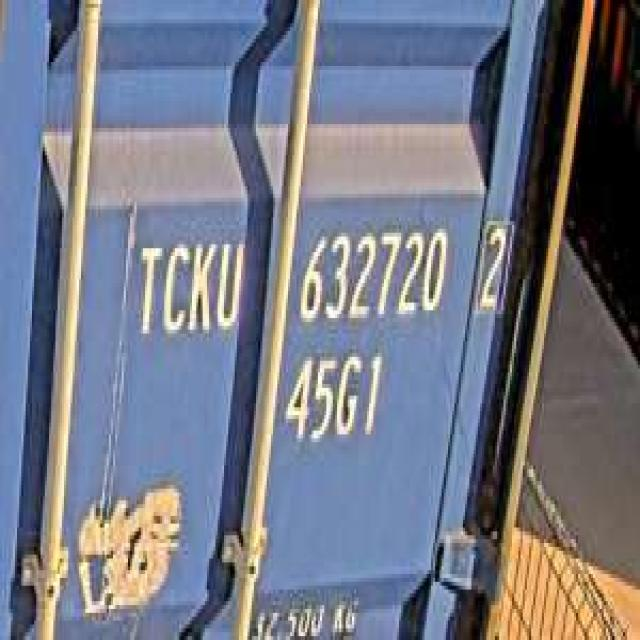dv: (472, 214, 516, 327)
owner: (130, 229, 245, 345)
serial: (295, 217, 450, 330)
size: (282, 341, 386, 454)
